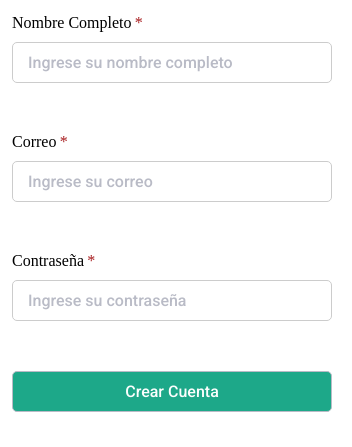
Test: FormSignup Component › Debe mostrar un error si el registro falla
The width and height of the screenshot is (352, 447).
Type "Juan Pérez" into the field with placeholder "Ingrese su nombre completo" at coordinates (172, 62), box [12,42,332,83]
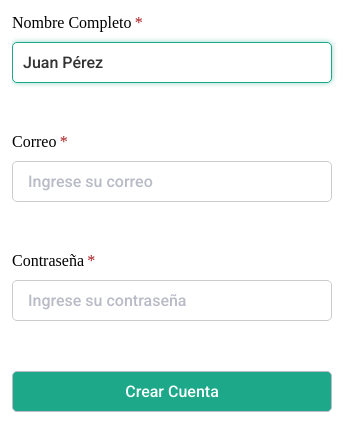
Type "juan@example.com" into the field with placeholder "Ingrese su correo" at coordinates (172, 182), box [12,161,332,202]
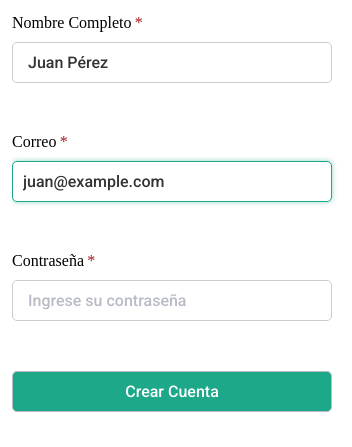
Type "password123" into the password field with placeholder "Ingrese su contraseña" at coordinates (172, 300), box [12,280,332,321]
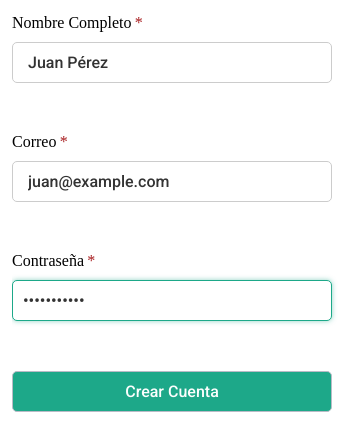
Click the button "Crear Cuenta" at coordinates (172, 392), box [12,371,332,412]
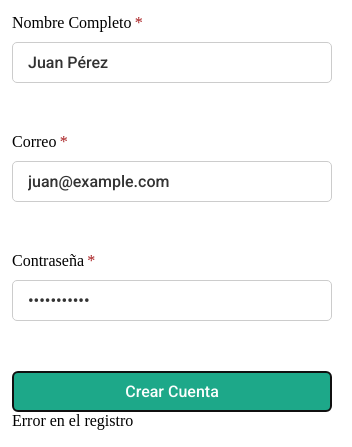
Expected: the text "Error en el registro" is shown, [12,412,133,430]
